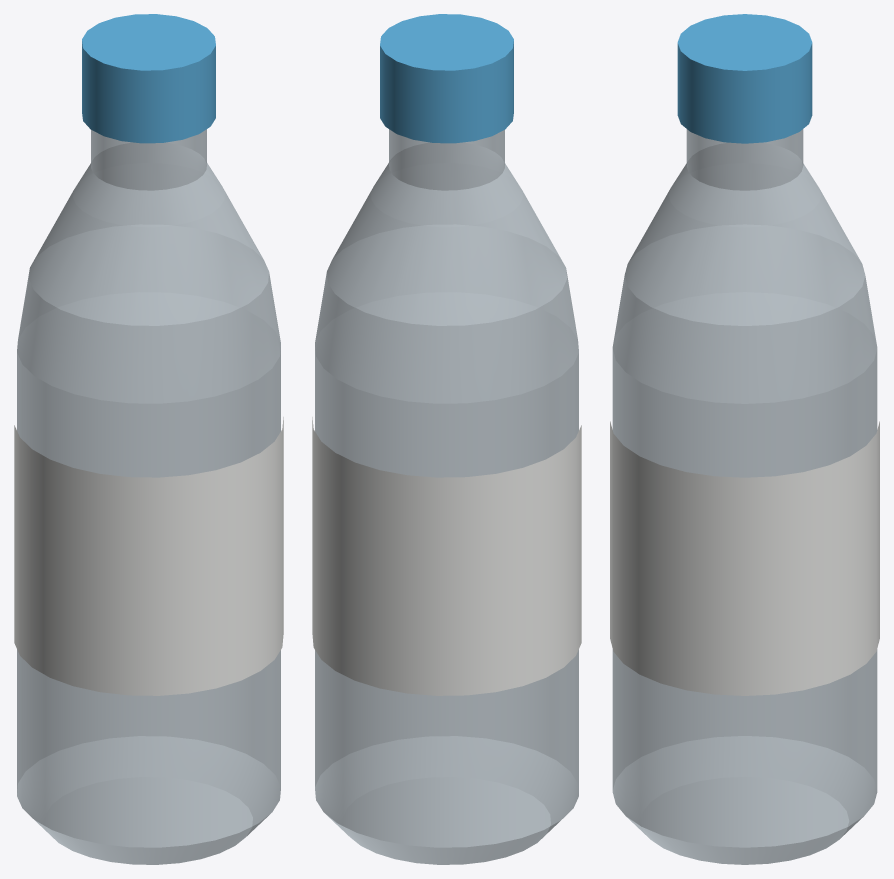
Rendered from botella_plastico.glb.
3 renders of one model, left to right at view 1: azimuth 30°, elevation 25°; view 2: azimuth 150°, elevation 25°; view 3: azimuth 270°, elevation 25°, orthographic.
Visible parts, largest first — view 1: botella_pet_cuerpo, botella_pet_etiqueta, botella_pet_tapa; view 2: botella_pet_cuerpo, botella_pet_etiqueta, botella_pet_tapa; view 3: botella_pet_cuerpo, botella_pet_etiqueta, botella_pet_tapa.
Part boxes in pixels (left/top/right/bottom): botella_pet_cuerpo: left=17, top=129, right=280, bottom=864; botella_pet_etiqueta: left=14, top=417, right=283, bottom=695; botella_pet_tapa: left=82, top=14, right=215, bottom=143; botella_pet_cuerpo: left=315, top=129, right=578, bottom=864; botella_pet_etiqueta: left=312, top=417, right=581, bottom=695; botella_pet_tapa: left=380, top=14, right=513, bottom=143; botella_pet_cuerpo: left=612, top=129, right=877, bottom=864; botella_pet_etiqueta: left=610, top=421, right=879, bottom=695; botella_pet_tapa: left=677, top=14, right=812, bottom=143.
Size of the model in its own units: 0.0672 by 0.214 by 0.0672.
